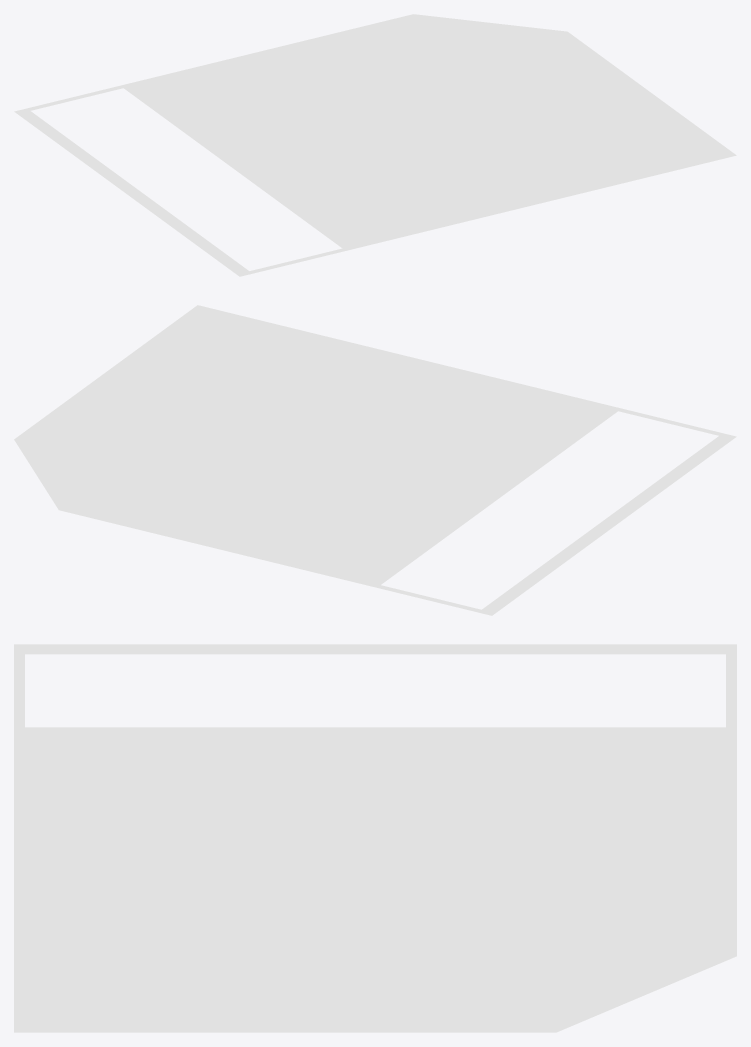
The model's file is actorportrait.obj.
3 renders of one model, top to bottom at view 1: azimuth 30°, elevation 25°; view 2: azimuth 150°, elevation 25°; view 3: azimuth 270°, elevation 25°, orthographic. The views are drawn at different scales.
Parts seen in each view (by area): view 1: Plane, Plane.001; view 2: Plane, Plane.001; view 3: Plane, Plane.001.
Part boxes in pixels (box(x1,y1,x2,y2)): Plane: box(120, 14, 736, 250); Plane.001: box(14, 86, 345, 276); Plane: box(14, 305, 621, 587); Plane.001: box(377, 408, 736, 615); Plane: box(14, 727, 736, 1032); Plane.001: box(14, 644, 736, 727).
Size of the model in its own units: 2.54 by 4e-06 by 2.
